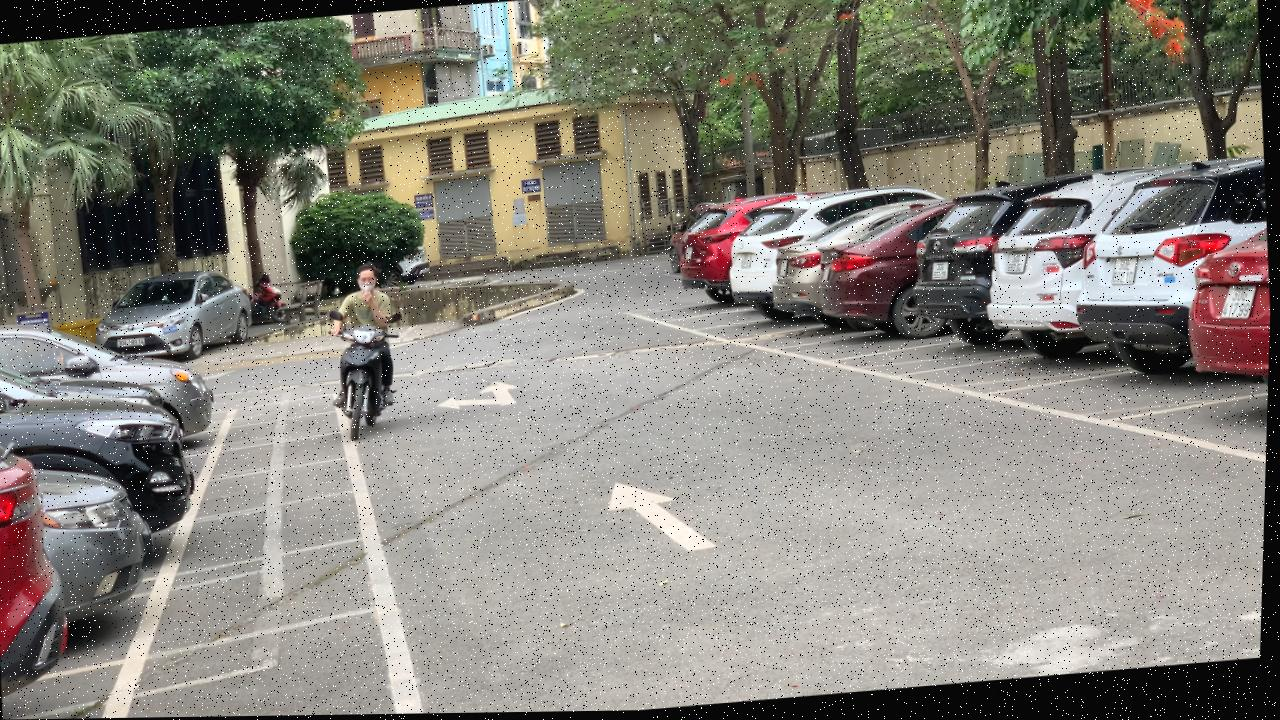motorcyclist: (322, 262, 414, 444)
